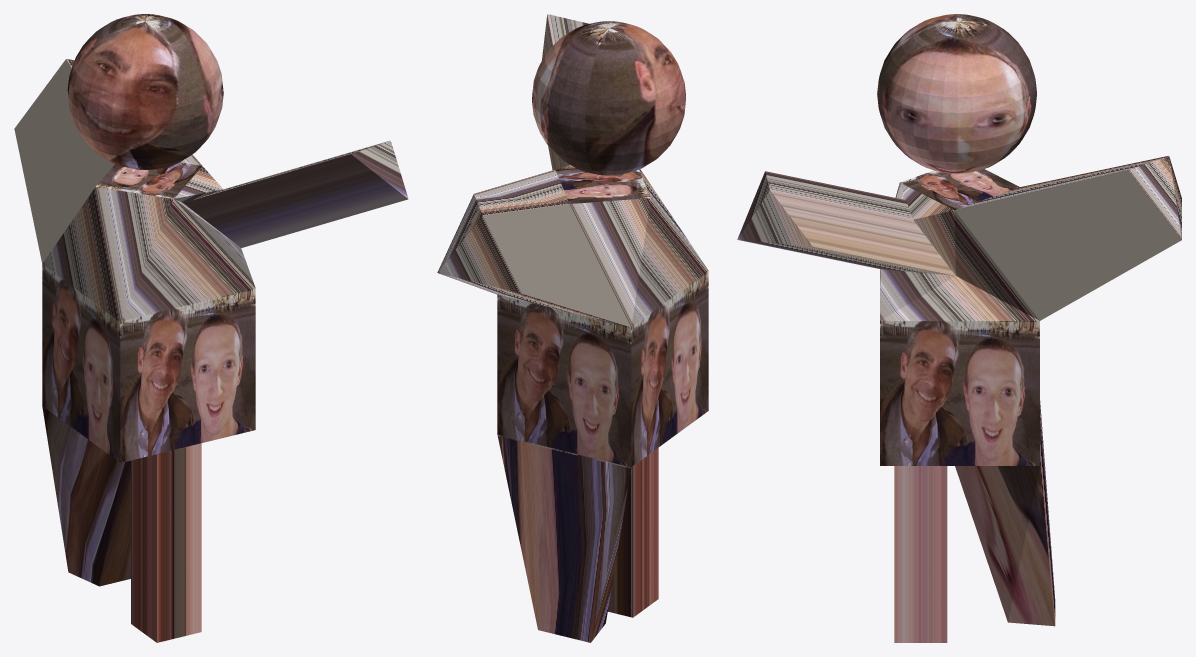
Rendered from zucc.dae.
The picture shows the model from 3 angles, left to right: view 1: azimuth 30°, elevation 25°; view 2: azimuth 150°, elevation 25°; view 3: azimuth 270°, elevation 25°; orthographic projection. The views are drawn at different scales.
Parts seen in each view (by area): view 1: Cube; view 2: Cube; view 3: Cube.
Part boxes in pixels (x1,y1,x2,y2): Cube: [14, 14, 408, 642]; Cube: [437, 14, 708, 642]; Cube: [737, 14, 1181, 642].
Size of the model in its own units: 3.3 by 5.56 by 8.4.
